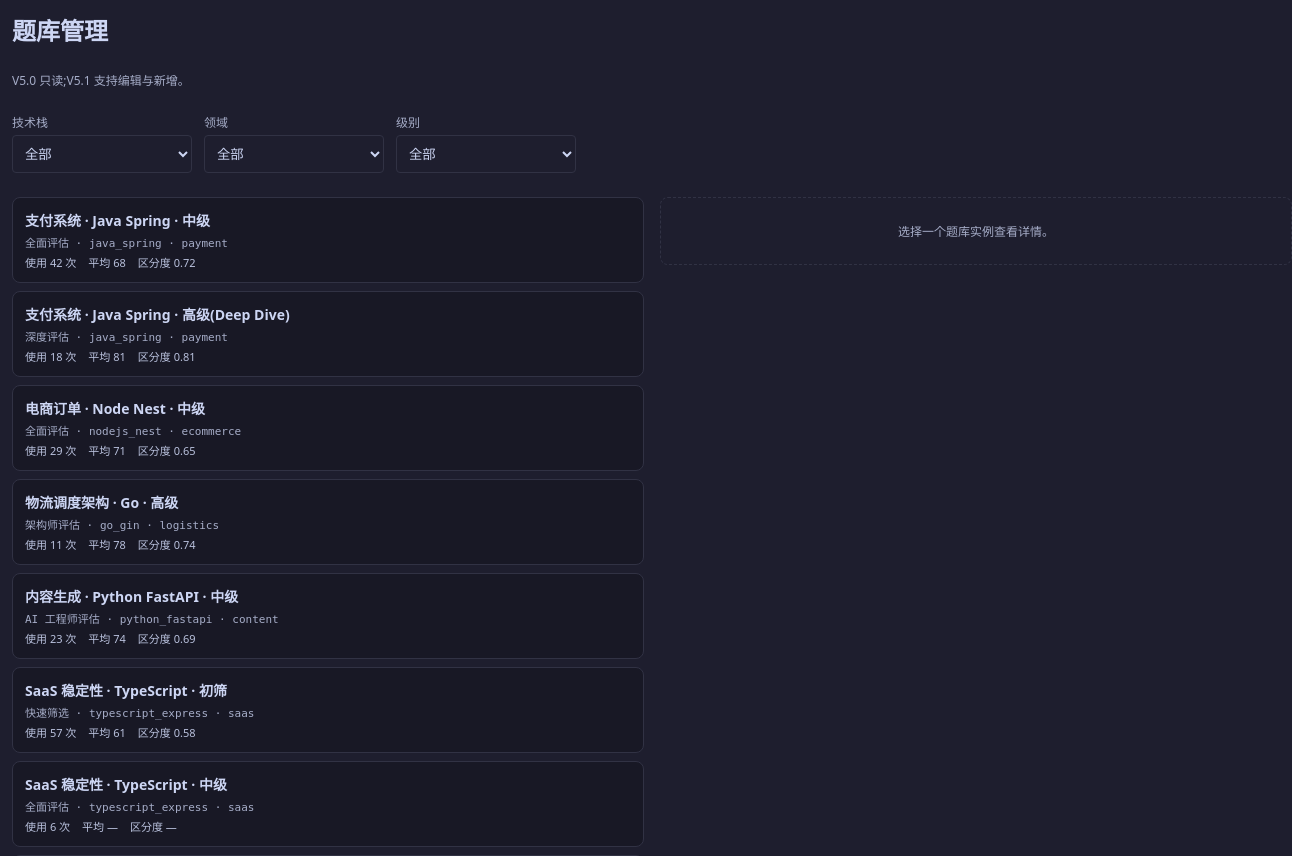
Scenario: <AdminExamLibraryPage /> › clicking an exam row populates the detail panel
This screenshot has width=1292, height=856.
Expected: the element with test id "admin-exam-detail" shows "选择一个题库实例", x1=898 y1=223 x2=1054 y2=240
What coordinates should you click on to do the following:
click the button with test id "admin-exam-row-exam-java-payment-mid"
I would click on:
 (117, 220)
Its box is x1=12 y1=197 x2=644 y2=283.
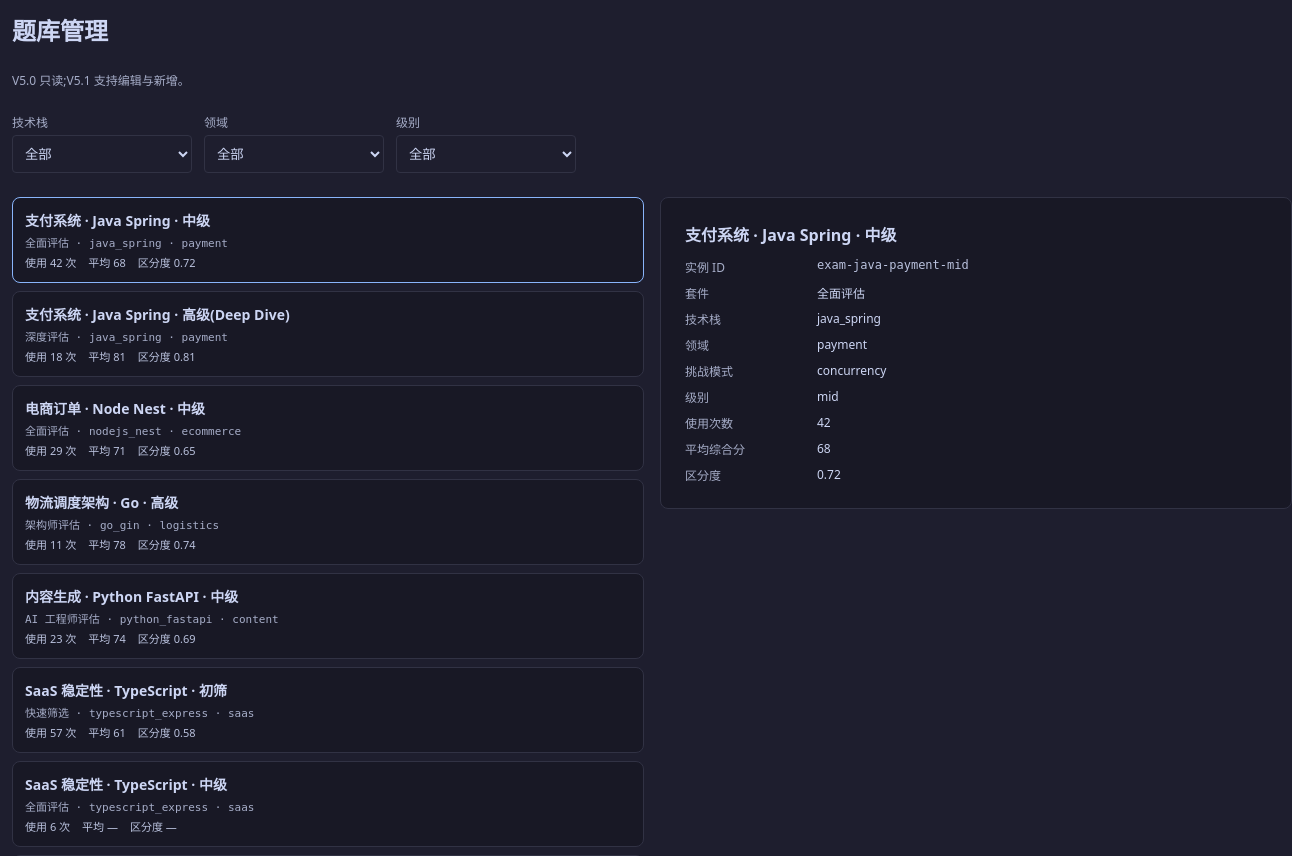
Expected: the element with test id "admin-exam-detail" shows "支付系统", x1=685 y1=224 x2=896 y2=246
Expected: the element with test id "admin-exam-detail" shows "exam-java-payment-mid", x1=817 y1=258 x2=969 y2=272
